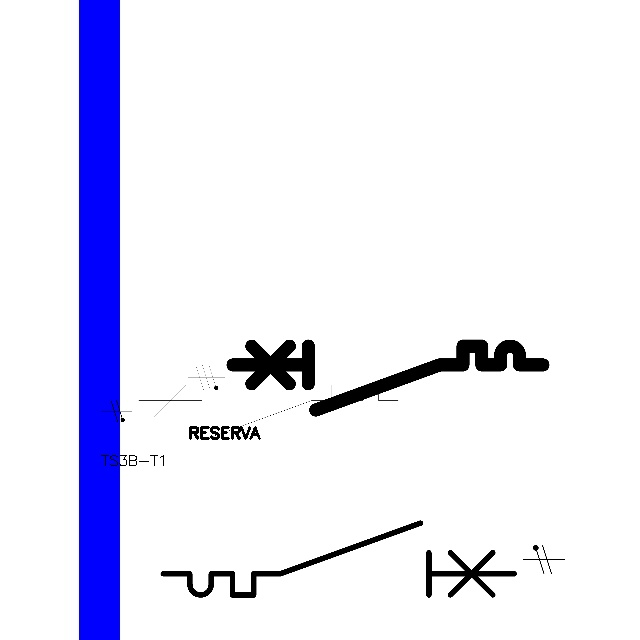interruptor_termomagnetico: (154, 514, 523, 604), (224, 338, 550, 418), (131, 378, 404, 444)
